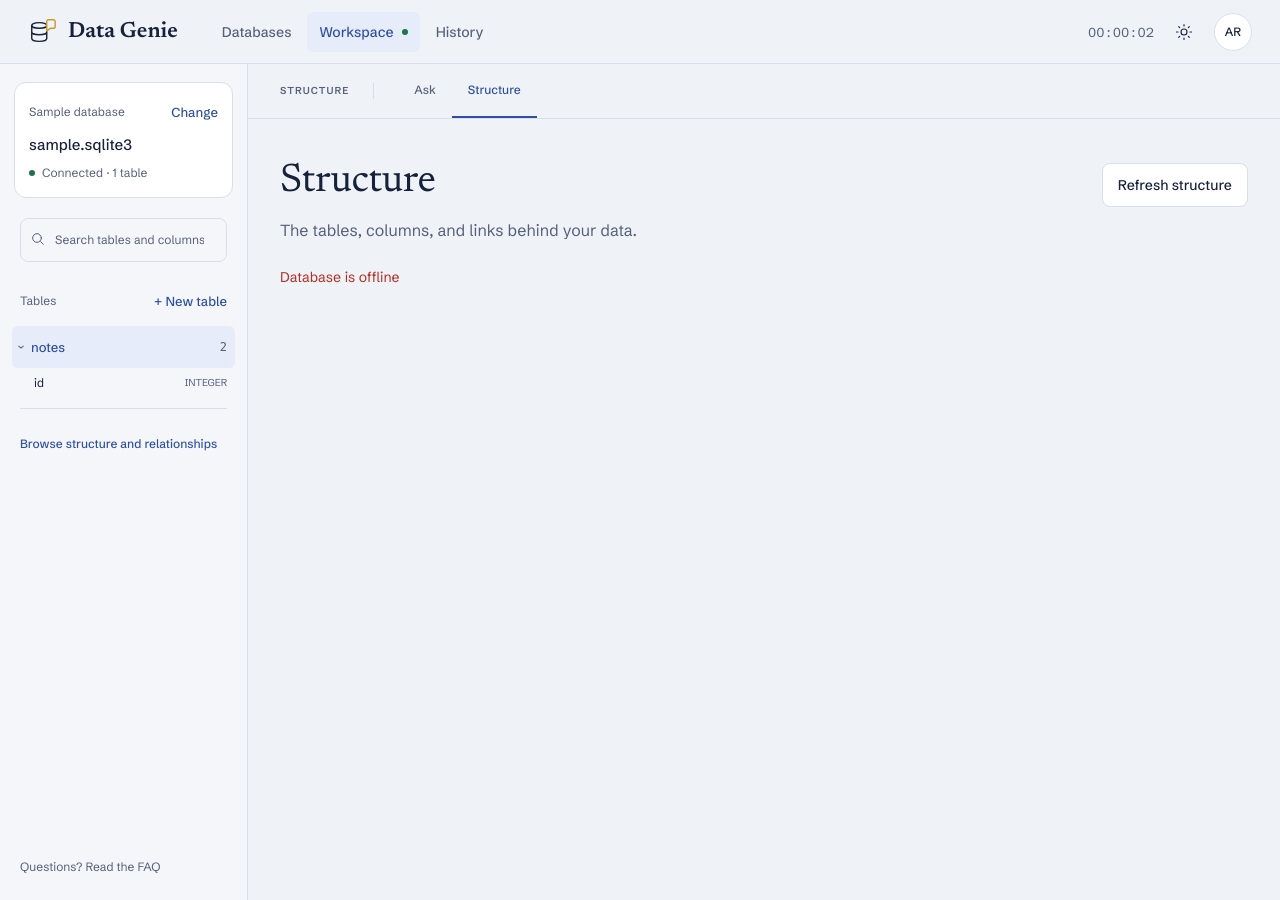
Test case: stops Structure loading on an error and recovers on refresh
This screenshot has width=1280, height=900.
Expected: the message reads "Database is offline", [280,268,400,286]
Click the button "Refresh structure" at (1175, 185), box [1102,163,1248,207]
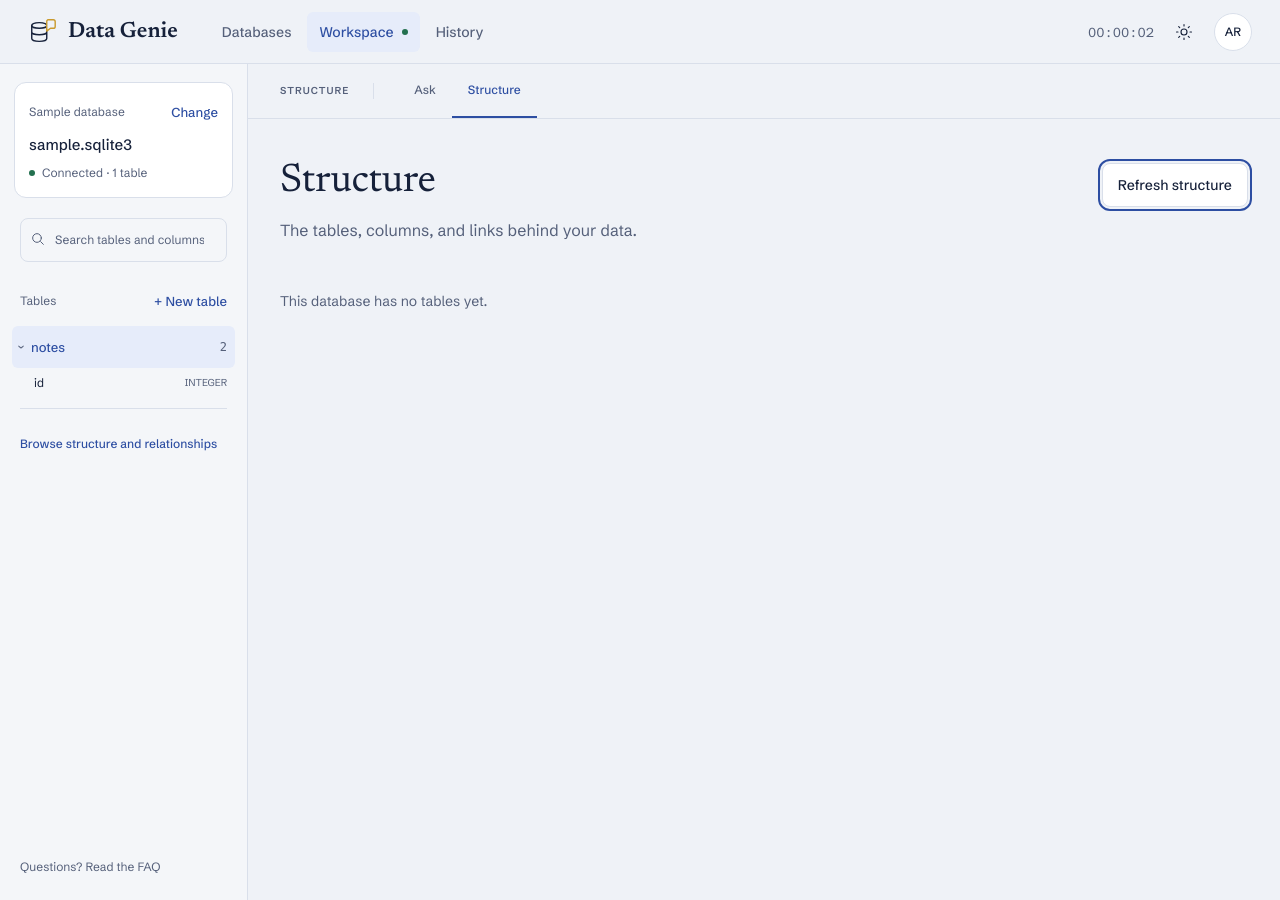
Now the text "This database has no tables yet." is shown, box [280,292,488,310]
Now the message "Database is offline" is gone
